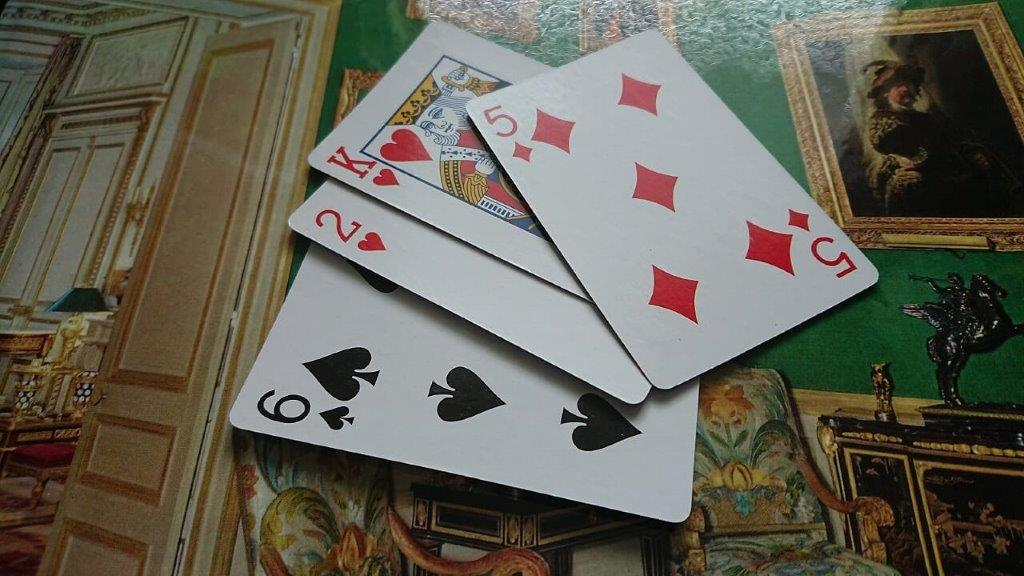2H: (311, 206, 389, 256)
5D: (479, 102, 536, 170)
KH: (323, 142, 403, 189)
